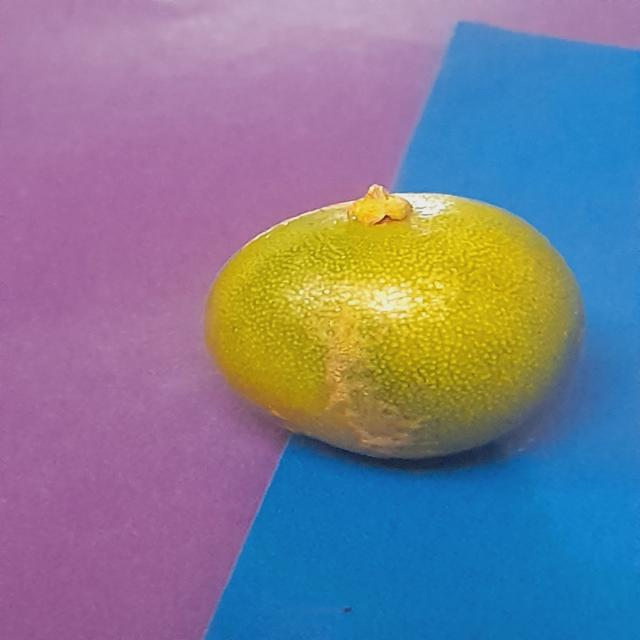thrips: (192, 188, 578, 474)
